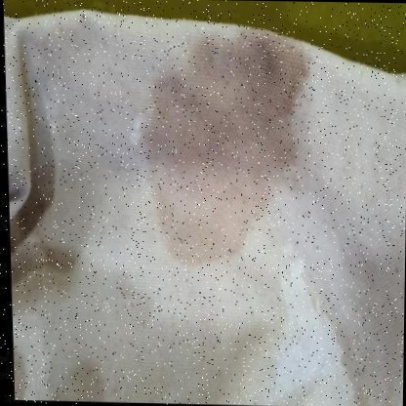coffee: (167, 67, 273, 206)
